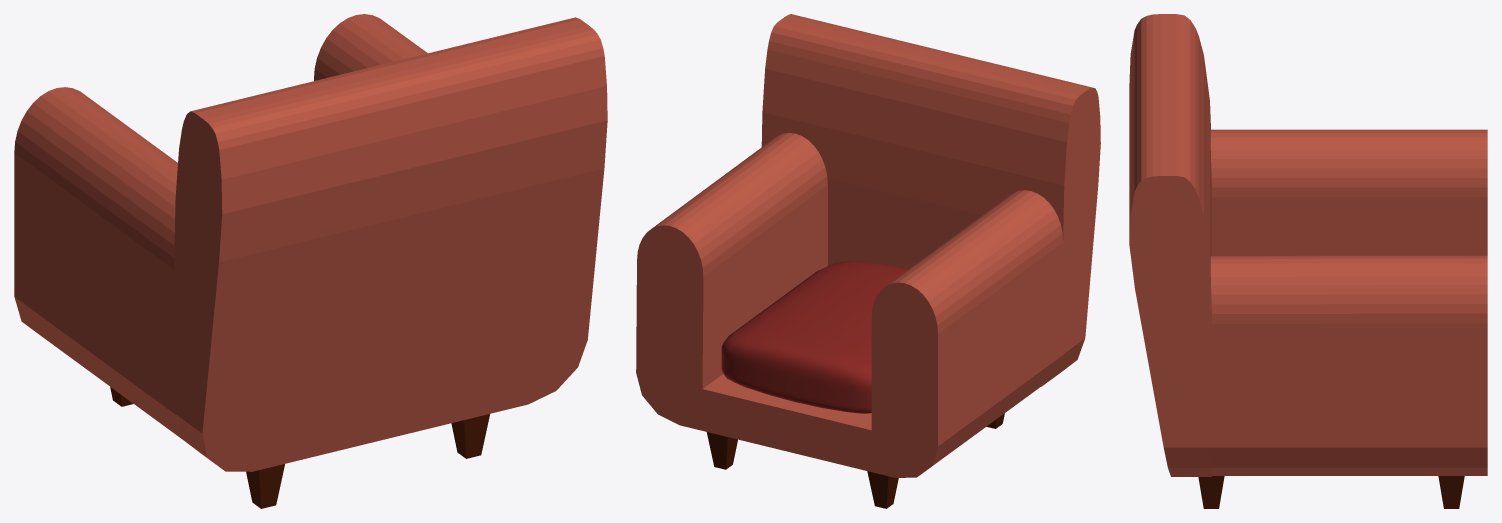
The model's file is Chair.fbx.
The picture shows the model from 3 angles, left to right: view 1: azimuth 30°, elevation 25°; view 2: azimuth 150°, elevation 25°; view 3: azimuth 270°, elevation 25°; orthographic projection. The views are drawn at different scales.
Parts seen in each view (by area): view 1: Cylinder.003, Cylinder.001; view 2: Cylinder.003, Cylinder.000, Cylinder.001; view 3: Cylinder.003, Cylinder.001.
Boxes of the visible parts, x1,y1,x2,y2 form: Cylinder.003: [14, 14, 607, 471]; Cylinder.001: [110, 387, 489, 508]; Cylinder.003: [636, 14, 1100, 477]; Cylinder.000: [721, 261, 908, 413]; Cylinder.001: [706, 413, 1004, 508]; Cylinder.003: [1129, 14, 1487, 476]; Cylinder.001: [1198, 476, 1464, 508].
Bounding box in the file's own units: 218 × 231 × 204.
